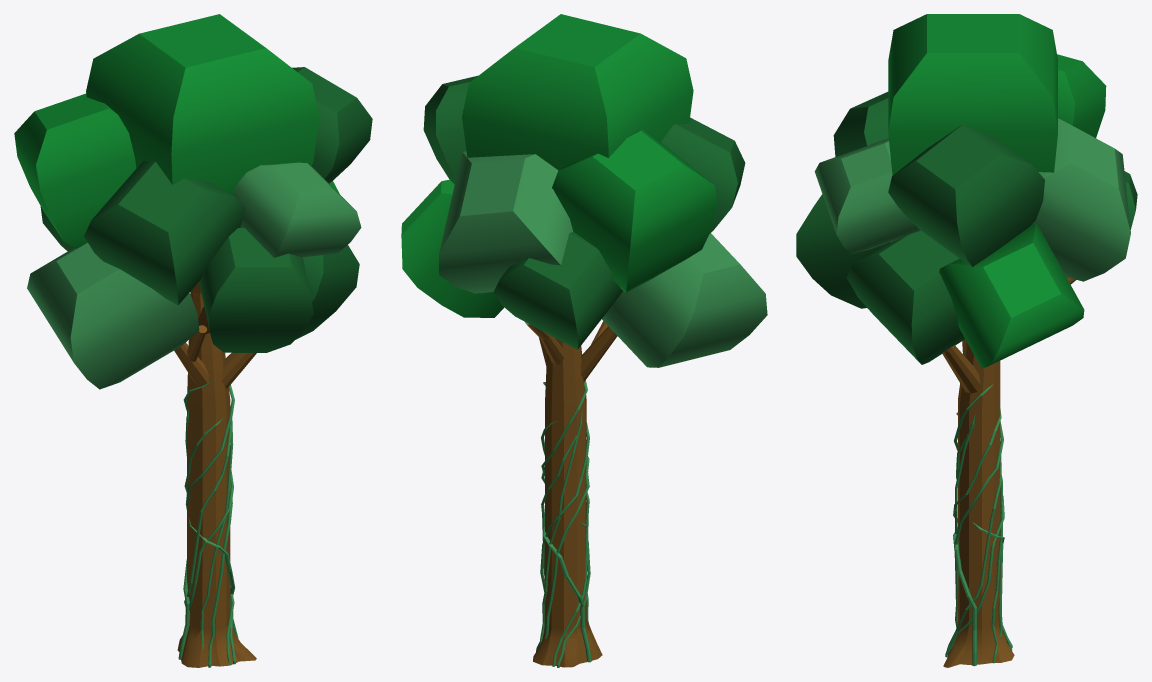
Rendered from tree_tuta2.fbx.
3 renders of one model, left to right at view 1: azimuth 30°, elevation 25°; view 2: azimuth 150°, elevation 25°; view 3: azimuth 270°, elevation 25°, orthographic.
Visible parts, largest first — view 1: leaf, trunk, tuta; view 2: leaf, trunk, tuta; view 3: leaf, trunk, tuta.
Part boxes in pixels (x1=…): leaf: x1=14, y1=14, x2=372, y2=389; trunk: x1=174, y1=282, x2=256, y2=667; tuta: x1=178, y1=380, x2=238, y2=667; leaf: x1=401, y1=14, x2=767, y2=367; trunk: x1=525, y1=321, x2=617, y2=667; tuta: x1=536, y1=380, x2=591, y2=667; leaf: x1=796, y1=14, x2=1137, y2=368; trunk: x1=942, y1=277, x2=1076, y2=667; tuta: x1=945, y1=384, x2=1012, y2=666.
Size of the model in its own units: 1393 by 2542 by 1278.
